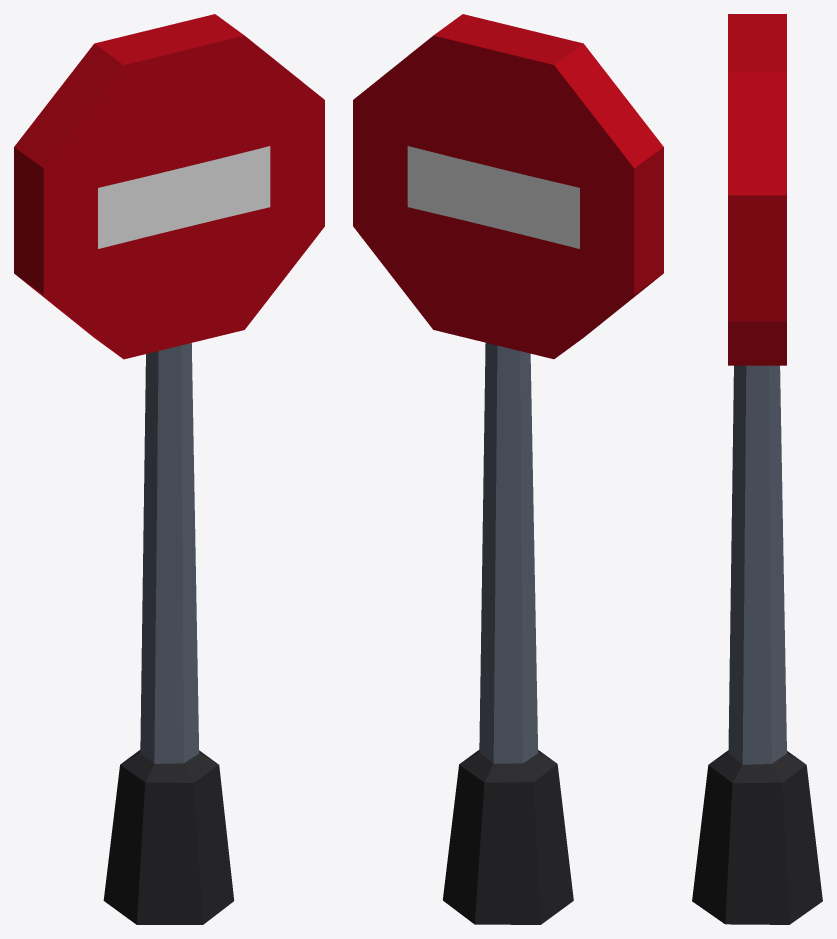
Rendered from Road Sign 3 Fractured.fbx.
The picture shows the model from 3 angles, left to right: view 1: azimuth 30°, elevation 25°; view 2: azimuth 150°, elevation 25°; view 3: azimuth 270°, elevation 25°; orthographic projection.
Parts seen in each view (by area): view 1: Road_Sign_03_Breaking.002, Road_Sign_03_Breaking.001, Road_Sign_03_Breaking; view 2: Road_Sign_03_Breaking.002, Road_Sign_03_Breaking.001, Road_Sign_03_Breaking; view 3: Road_Sign_03_Breaking.001, Road_Sign_03_Breaking.002, Road_Sign_03_Breaking.
Boxes of the visible parts, x1,y1,x2,y2 form: Road_Sign_03_Breaking.002: (14,14,324,326); Road_Sign_03_Breaking.001: (103,580,234,924); Road_Sign_03_Breaking: (56,201,324,602); Road_Sign_03_Breaking.002: (353,14,663,326); Road_Sign_03_Breaking.001: (443,580,573,924); Road_Sign_03_Breaking: (353,201,620,602); Road_Sign_03_Breaking.001: (692,593,822,924); Road_Sign_03_Breaking.002: (728,14,786,295); Road_Sign_03_Breaking: (728,295,786,613).
Bounding box in the file's own units: 55.39 × 162 × 22.44.
